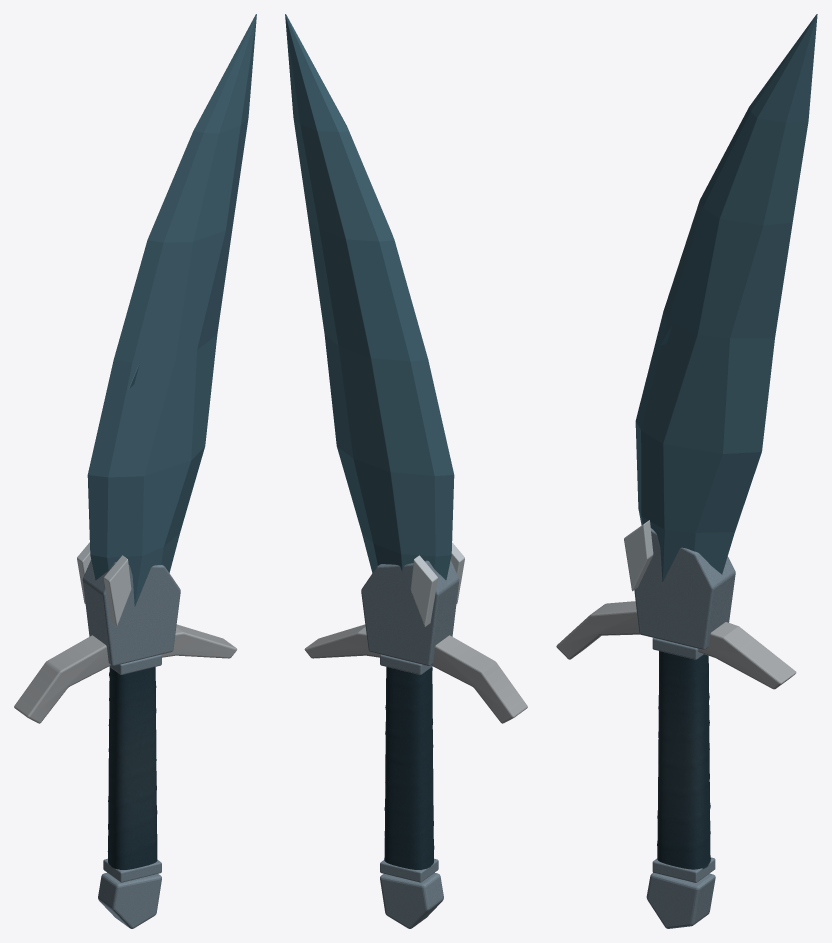
File: glacier.glb
3 renders of one model, left to right at view 1: azimuth 30°, elevation 25°; view 2: azimuth 150°, elevation 25°; view 3: azimuth 330°, elevation 25°, orthographic. The views are drawn at different scales.
Visible parts, largest first — view 1: Continuous translucent glacial hull.001 source export, glacier_Baked.001 export; view 2: Continuous translucent glacial hull.001 source export, glacier_Baked.001 export; view 3: Continuous translucent glacial hull.001 source export, glacier_Baked.001 export.
Part boxes in pixels (x1,y1,x2,y2): Continuous translucent glacial hull.001 source export: [87, 14, 256, 606]; glacier_Baked.001 export: [14, 364, 237, 928]; Continuous translucent glacial hull.001 source export: [285, 14, 454, 579]; glacier_Baked.001 export: [304, 542, 527, 928]; Continuous translucent glacial hull.001 source export: [635, 14, 817, 581]; glacier_Baked.001 export: [556, 324, 796, 928].
Bounding box in the file's own units: 0.2725 × 0.9682 × 0.066.
Materials: 2 (1 with a texture image).
